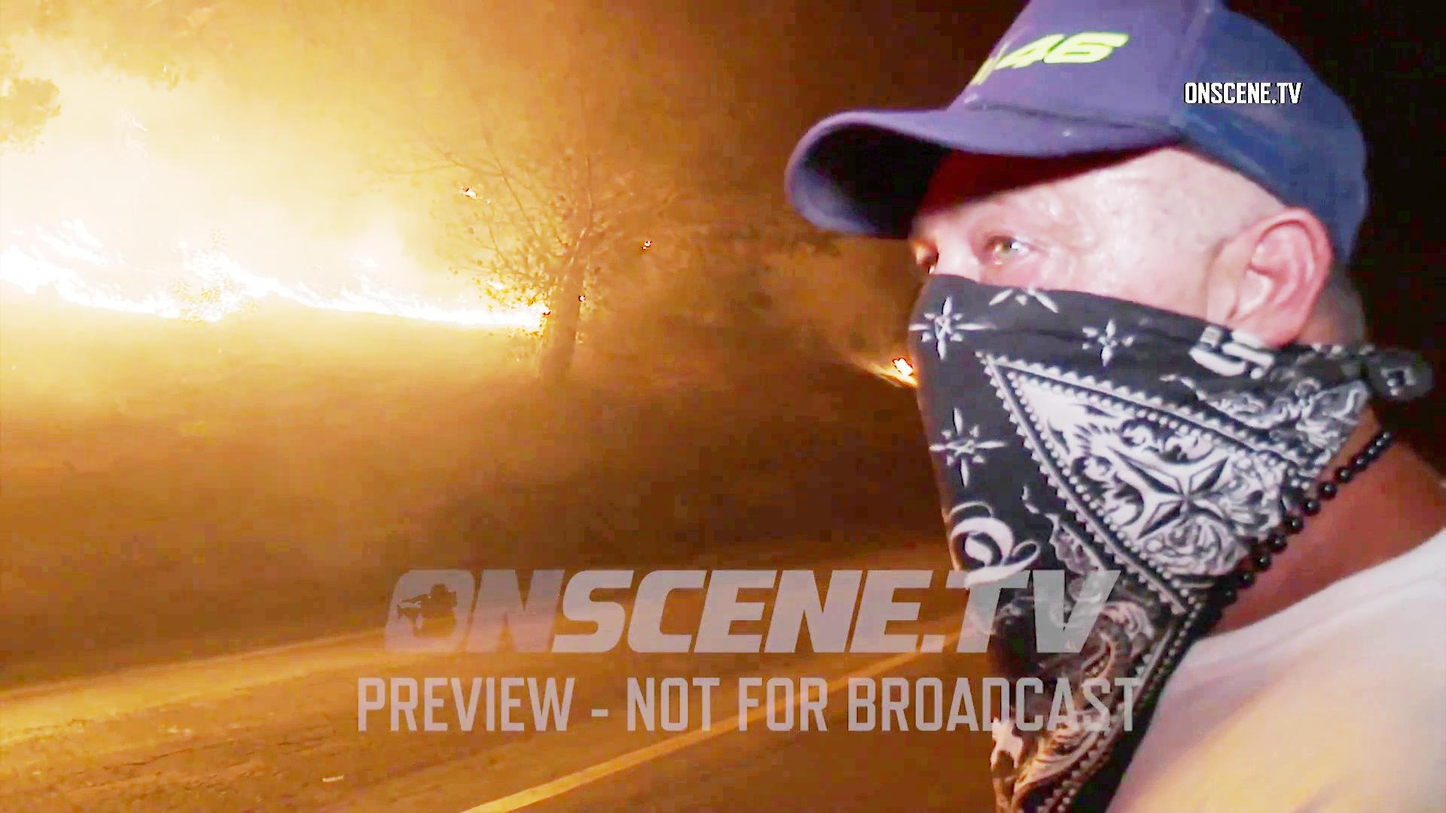fire: (0, 258, 456, 364)
